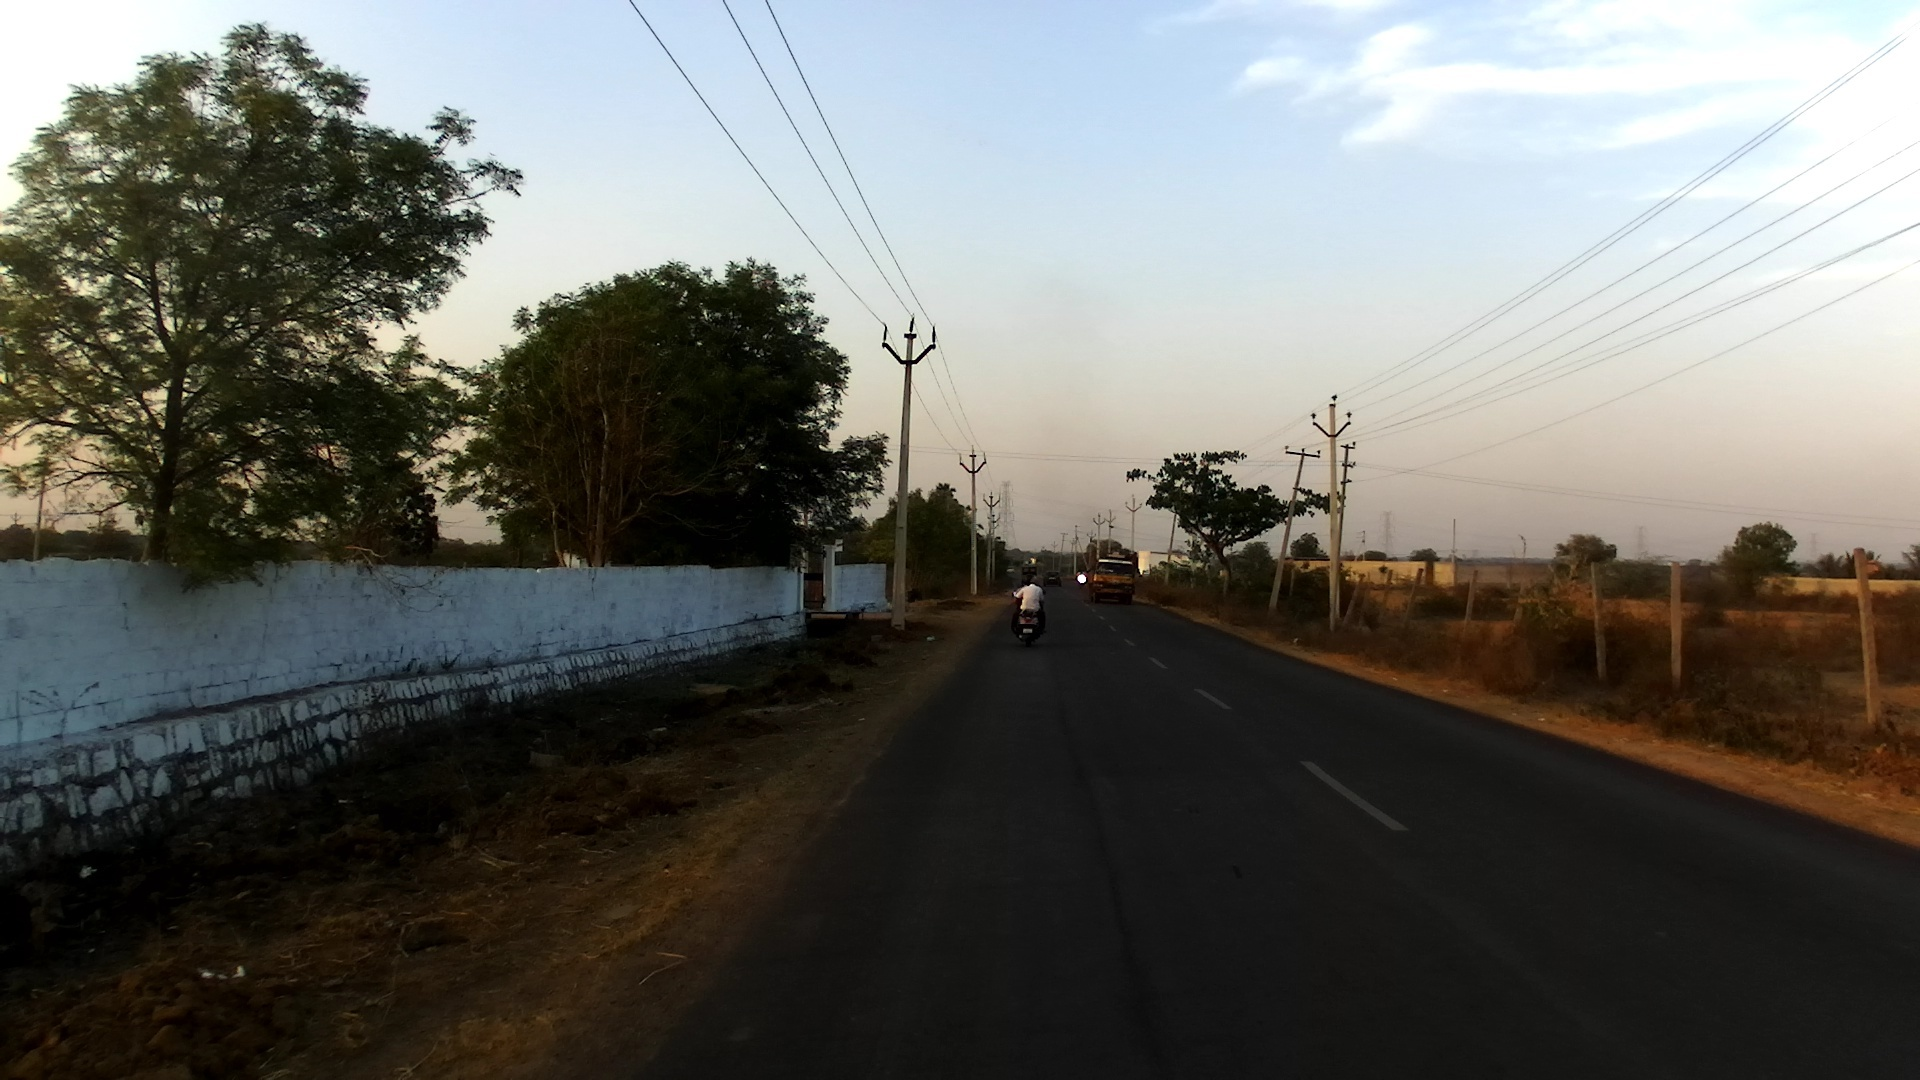autorickshaw: (1019, 557, 1042, 592)
car: (1043, 568, 1063, 587), (1005, 565, 1017, 574)
motorcycle: (1011, 586, 1047, 648)
rider: (1008, 576, 1058, 635), (1014, 571, 1042, 617)
truck: (1088, 550, 1135, 607)
vehicle fallback: (1074, 571, 1089, 587)
